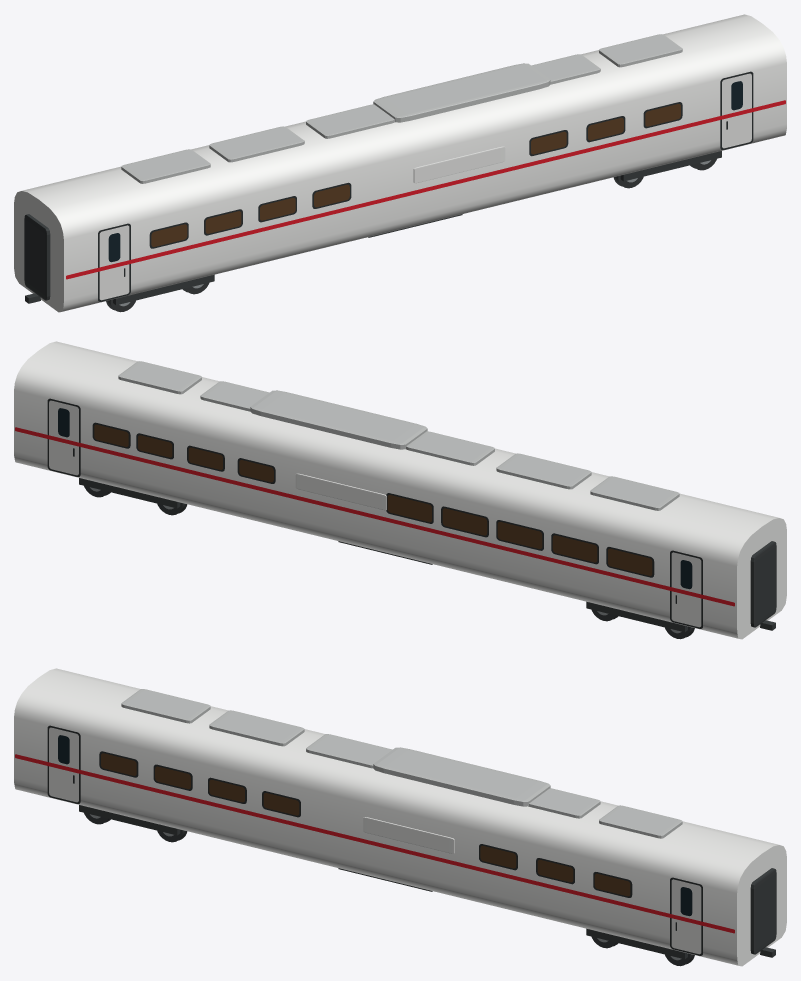
Rendered from ice3-br403-v2-bordrestaurant-403-3.glb.
The picture shows the model from 3 angles, top to bottom: view 1: azimuth 30°, elevation 25°; view 2: azimuth 150°, elevation 25°; view 3: azimuth 330°, elevation 25°; orthographic projection.
Visible parts, largest first — view 1: ice3_v2_bordrestaurant_403_3_matching_shell, ice3_v2_bordrestaurant_403_3_kitchen_hvac, ice3_v2_bordrestaurant_403_3_continuous_red_stripe_-1, ice3_v2_bordrestaurant_403_3_double_bellows_-1, ice3_v2_bordrestaurant_403_3_roof_fairing_1, ice3_v2_bordrestaurant_403_3_roof_fairing_0, ice3_v2_bordrestaurant_403_3_roof_fairing_2, ice3_v2_bordrestaurant_403_3_door_leaf_0_-1, ice3_v2_bordrestaurant_403_3_door_leaf_1_-1, ice3_v2_bordrestaurant_403_3_roof_fairing_4, ice3_v2_bordrestaurant_403_3_galley_service_panel_-1, ice3_v2_bordrestaurant_403_3_roof_fairing_3 (+9 smaller); view 2: ice3_v2_bordrestaurant_403_3_matching_shell, ice3_v2_bordrestaurant_403_3_kitchen_hvac, ice3_v2_bordrestaurant_403_3_continuous_red_stripe_1, ice3_v2_bordrestaurant_403_3_double_bellows_-1, ice3_v2_bordrestaurant_403_3_roof_fairing_1, ice3_v2_bordrestaurant_403_3_roof_fairing_0, ice3_v2_bordrestaurant_403_3_roof_fairing_2, ice3_v2_bordrestaurant_403_3_door_leaf_0_1, ice3_v2_bordrestaurant_403_3_door_leaf_1_1, ice3_v2_bordrestaurant_403_3_roof_fairing_4, ice3_v2_bordrestaurant_403_3_galley_service_panel_1, ice3_v2_bordrestaurant_403_3_roof_fairing_3 (+11 smaller); view 3: ice3_v2_bordrestaurant_403_3_matching_shell, ice3_v2_bordrestaurant_403_3_kitchen_hvac, ice3_v2_bordrestaurant_403_3_continuous_red_stripe_-1, ice3_v2_bordrestaurant_403_3_double_bellows_1, ice3_v2_bordrestaurant_403_3_roof_fairing_1, ice3_v2_bordrestaurant_403_3_roof_fairing_0, ice3_v2_bordrestaurant_403_3_door_leaf_1_-1, ice3_v2_bordrestaurant_403_3_door_leaf_0_-1, ice3_v2_bordrestaurant_403_3_roof_fairing_2, ice3_v2_bordrestaurant_403_3_roof_fairing_4, ice3_v2_bordrestaurant_403_3_galley_service_panel_-1, ice3_v2_bordrestaurant_403_3_roof_fairing_3 (+9 smaller).
Part boxes in pixels (<box>): ice3_v2_bordrestaurant_403_3_matching_shell: <box>14,14,786,312</box>; ice3_v2_bordrestaurant_403_3_kitchen_hvac: <box>373,63,550,122</box>; ice3_v2_bordrestaurant_403_3_continuous_red_stripe_-1: <box>66,100,785,279</box>; ice3_v2_bordrestaurant_403_3_double_bellows_-1: <box>24,214,50,300</box>; ice3_v2_bordrestaurant_403_3_roof_fairing_1: <box>209,126,304,162</box>; ice3_v2_bordrestaurant_403_3_roof_fairing_0: <box>121,149,210,183</box>; ice3_v2_bordrestaurant_403_3_roof_fairing_2: <box>306,104,394,138</box>; ice3_v2_bordrestaurant_403_3_door_leaf_0_-1: <box>99,225,129,300</box>; ice3_v2_bordrestaurant_403_3_door_leaf_1_-1: <box>722,73,751,148</box>; ice3_v2_bordrestaurant_403_3_roof_fairing_4: <box>599,34,682,67</box>; ice3_v2_bordrestaurant_403_3_galley_service_panel_-1: <box>413,146,505,183</box>; ice3_v2_bordrestaurant_403_3_roof_fairing_3: <box>531,54,600,84</box>; ice3_v2_bordrestaurant_403_3_matching_shell: <box>14,341,786,639</box>; ice3_v2_bordrestaurant_403_3_kitchen_hvac: <box>250,390,427,449</box>; ice3_v2_bordrestaurant_403_3_continuous_red_stripe_1: <box>15,427,734,606</box>; ice3_v2_bordrestaurant_403_3_double_bellows_-1: <box>750,541,776,627</box>; ice3_v2_bordrestaurant_403_3_roof_fairing_1: <box>496,453,591,489</box>; ice3_v2_bordrestaurant_403_3_roof_fairing_0: <box>590,476,679,510</box>; ice3_v2_bordrestaurant_403_3_roof_fairing_2: <box>406,431,494,465</box>; ice3_v2_bordrestaurant_403_3_door_leaf_0_1: <box>671,552,701,627</box>; ice3_v2_bordrestaurant_403_3_door_leaf_1_1: <box>49,400,78,475</box>; ice3_v2_bordrestaurant_403_3_roof_fairing_4: <box>118,361,201,394</box>; ice3_v2_bordrestaurant_403_3_galley_service_panel_1: <box>295,473,386,510</box>; ice3_v2_bordrestaurant_403_3_roof_fairing_3: <box>200,381,269,411</box>; ice3_v2_bordrestaurant_403_3_matching_shell: <box>14,668,786,966</box>; ice3_v2_bordrestaurant_403_3_kitchen_hvac: <box>373,747,550,806</box>; ice3_v2_bordrestaurant_403_3_continuous_red_stripe_-1: <box>15,754,734,933</box>; ice3_v2_bordrestaurant_403_3_double_bellows_1: <box>750,868,776,954</box>; ice3_v2_bordrestaurant_403_3_roof_fairing_1: <box>209,710,304,746</box>; ice3_v2_bordrestaurant_403_3_roof_fairing_0: <box>121,689,210,723</box>; ice3_v2_bordrestaurant_403_3_door_leaf_1_-1: <box>671,879,701,954</box>; ice3_v2_bordrestaurant_403_3_door_leaf_0_-1: <box>49,727,78,802</box>; ice3_v2_bordrestaurant_403_3_roof_fairing_2: <box>306,734,392,768</box>; ice3_v2_bordrestaurant_403_3_roof_fairing_4: <box>599,805,682,838</box>; ice3_v2_bordrestaurant_403_3_galley_service_panel_-1: <box>363,817,454,853</box>; ice3_v2_bordrestaurant_403_3_roof_fairing_3: <box>528,788,600,818</box>.
Bounding box in the file's own units: 25.5 × 4.12 × 3.03.
